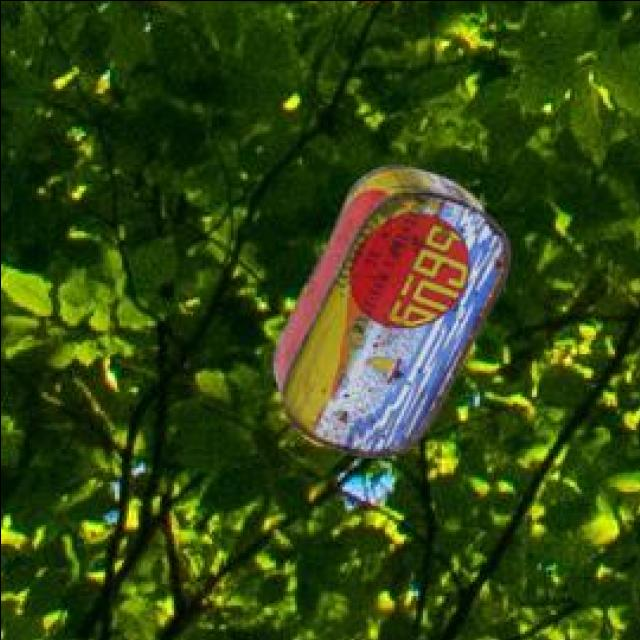logam: (276, 162, 513, 454)
